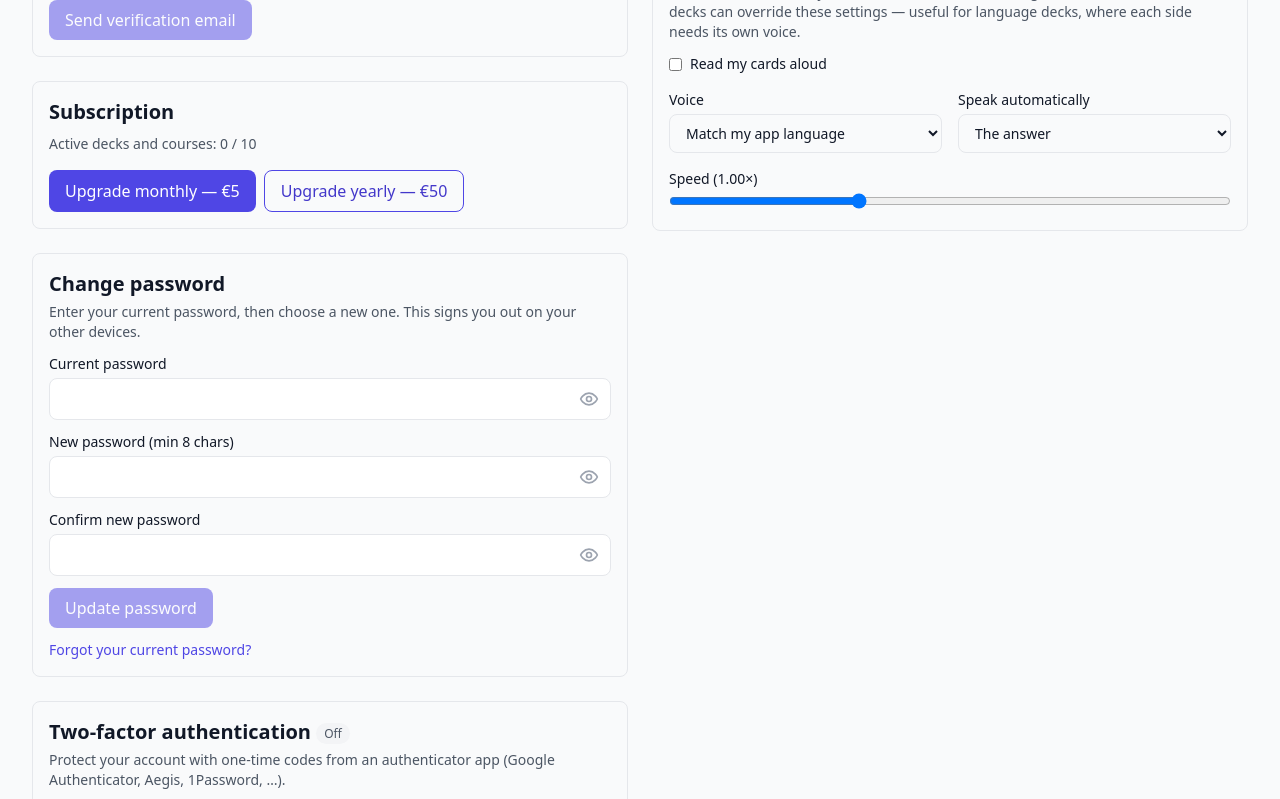
Test case: SettingsPage › mismatched new passwords are rejected client-side
The image size is (1280, 799).
(page scrolled)
Type "OldPassw0rd" into the password field labelled "Current password".
click(330, 399); type("OldPassw0rd")  # box [49, 378, 611, 420]
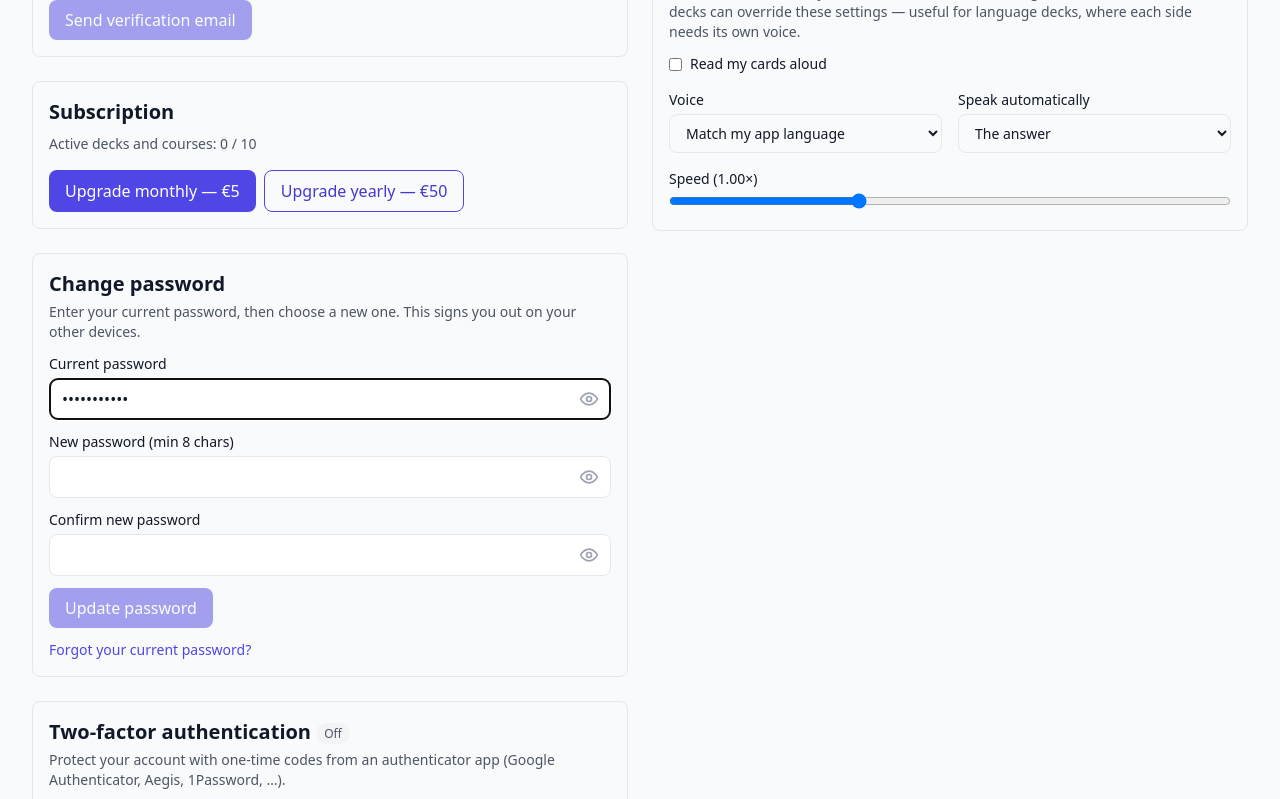
Type "BrandNewPassw0rd" into the password field labelled "New password (min 8 chars)".
click(330, 477); type("BrandNewPassw0rd")  # box [49, 456, 611, 498]
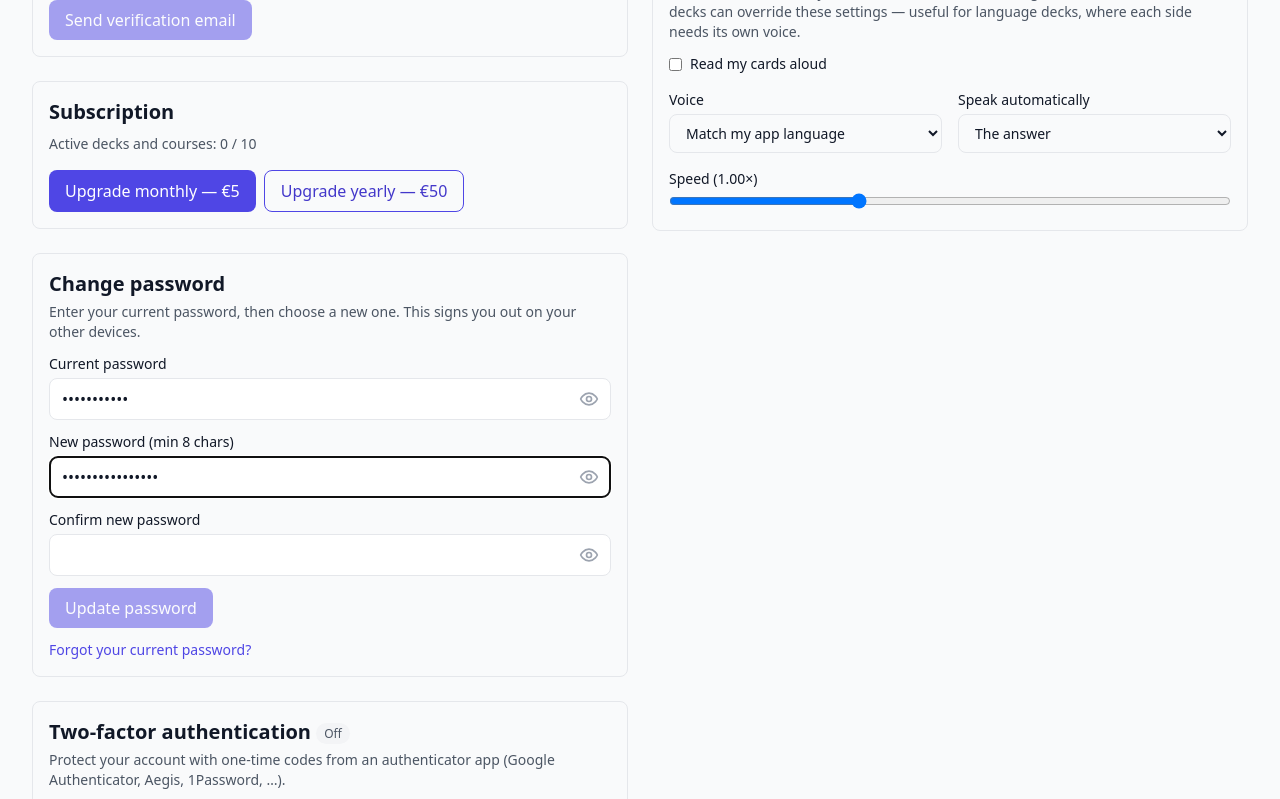
Type "Different0ne" into the password field labelled "Confirm new password".
click(330, 555); type("Different0ne")  # box [49, 534, 611, 576]
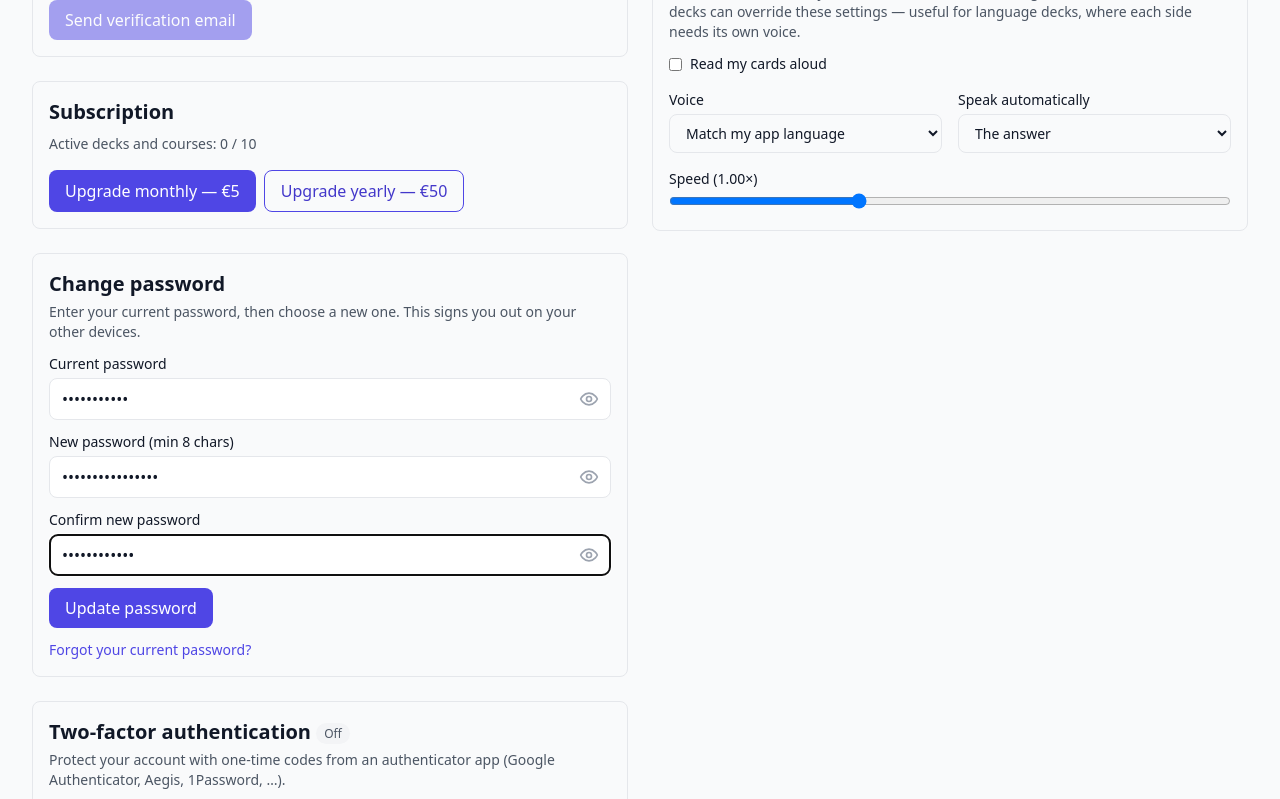
Click the button "Update password".
click(131, 608)  # box [49, 588, 213, 628]
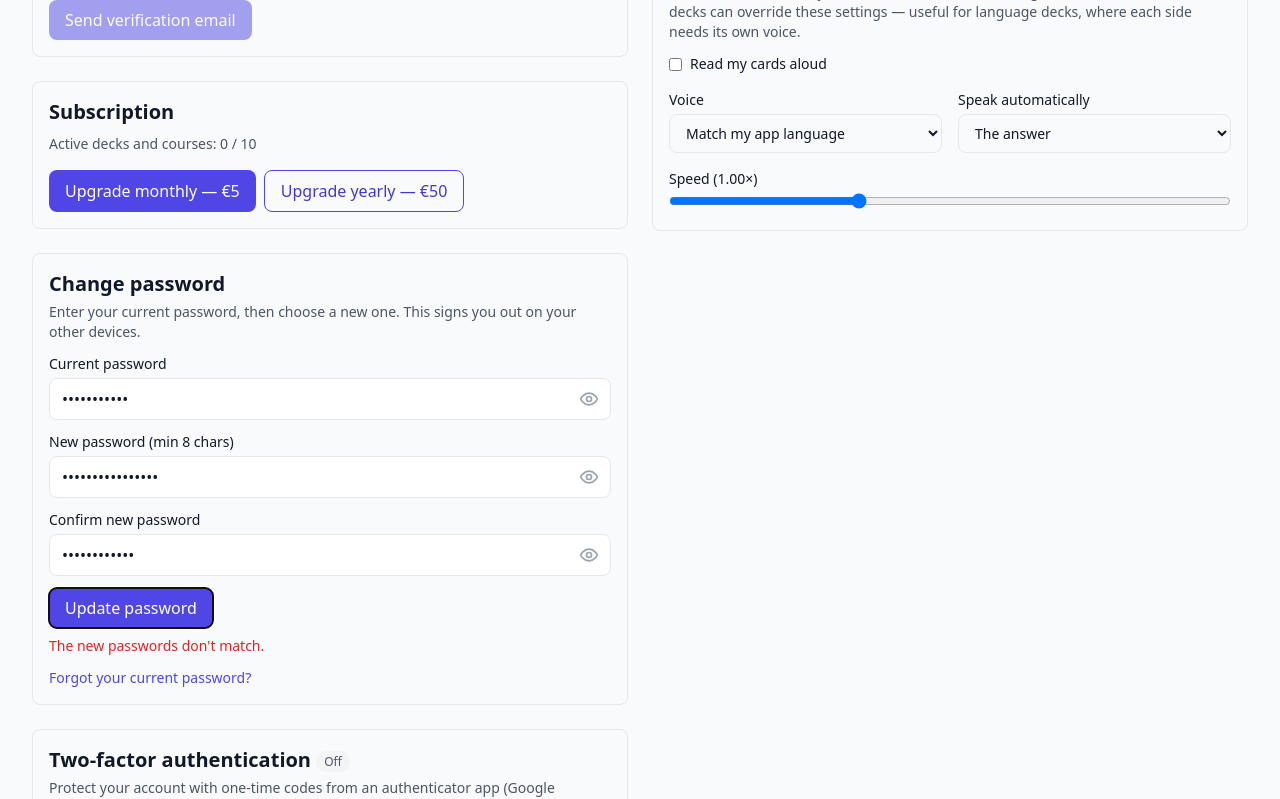
Expected: the text "The new passwords don't match." is shown, [49, 636, 264, 655]
